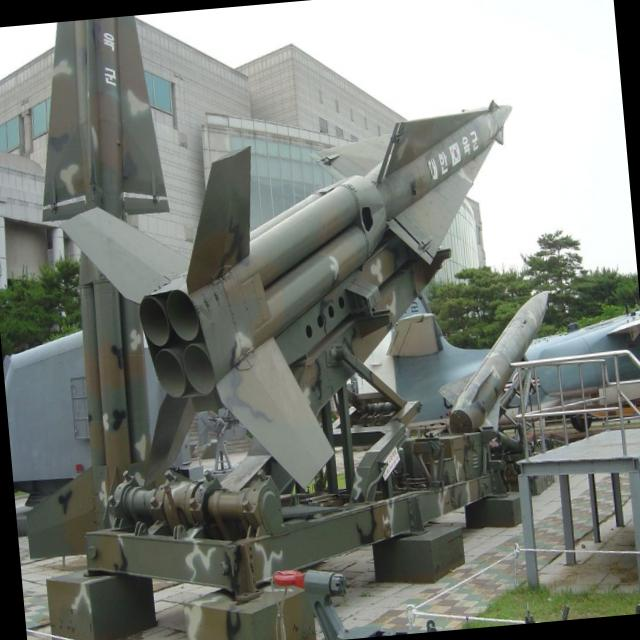rocket: (58, 98, 535, 420)
